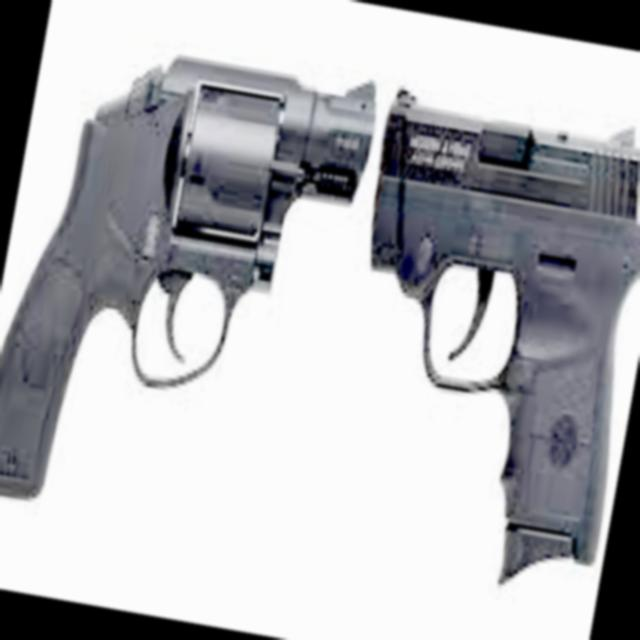semi automatic: (0, 3, 640, 632)
